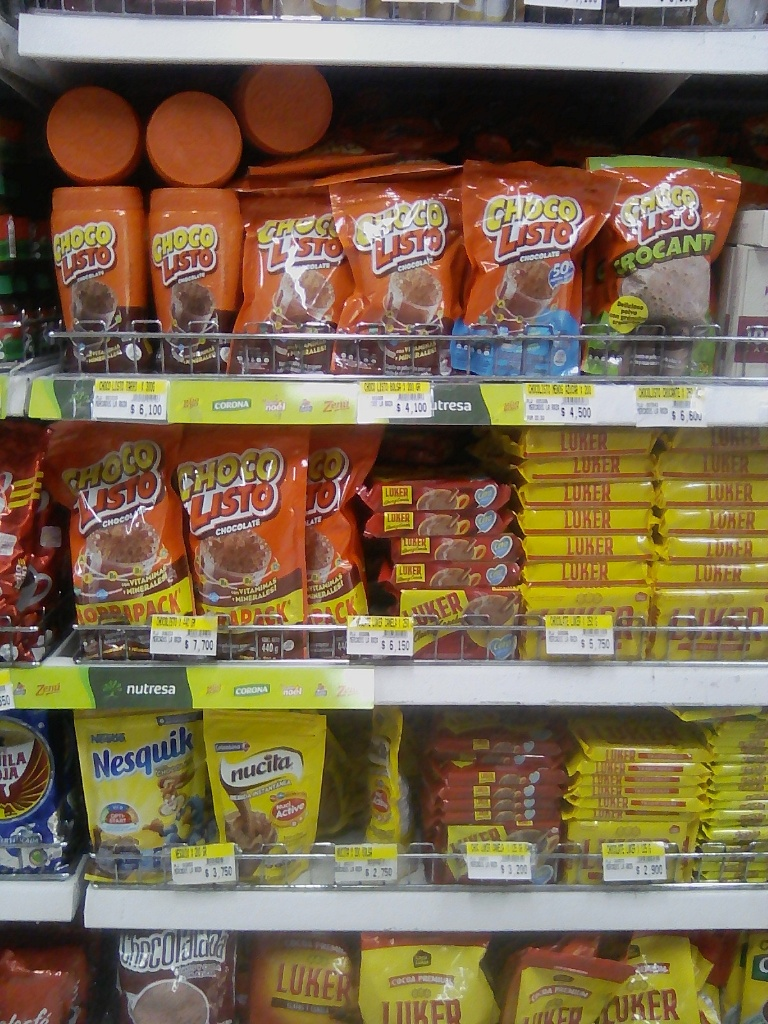COL0170103DYP44000: (174, 422, 302, 659)
COL0170104DYP20000: (460, 157, 609, 379)
COL0170303DYP20000: (73, 711, 208, 886)
